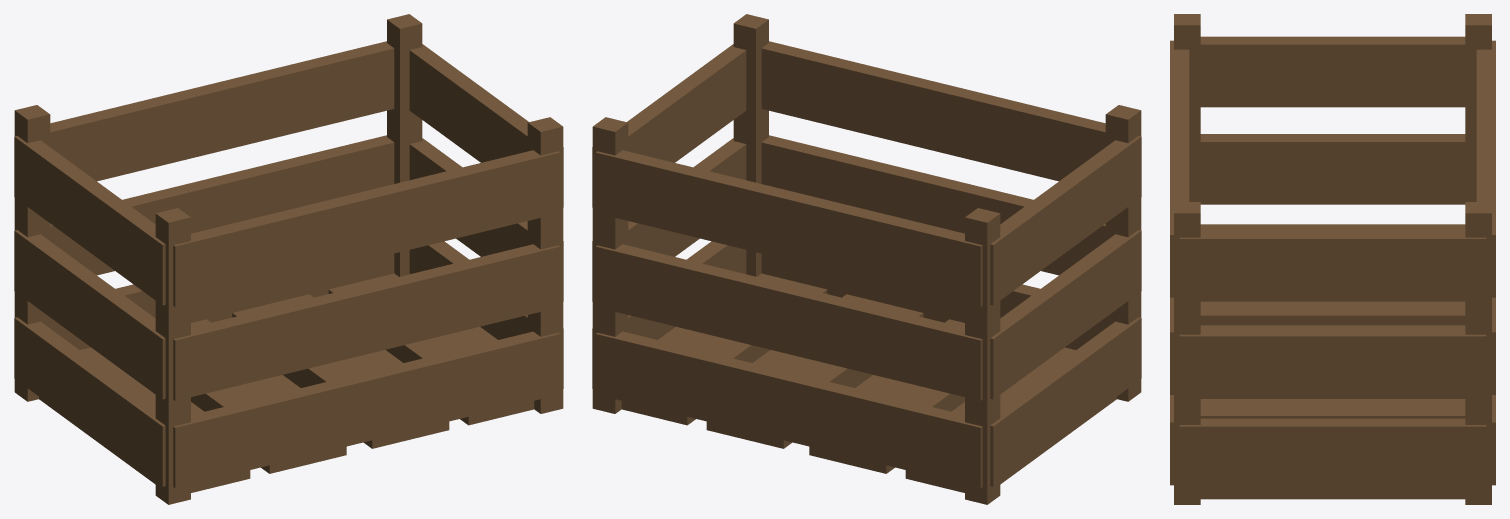
Rendered from wood_crate.glb.
3 renders of one model, left to right at view 1: azimuth 30°, elevation 25°; view 2: azimuth 150°, elevation 25°; view 3: azimuth 270°, elevation 25°, orthographic. The views are drawn at different scales.
Parts seen in each view (by area): view 1: wood_crate__VVK_weathered_wood; view 2: wood_crate__VVK_weathered_wood; view 3: wood_crate__VVK_weathered_wood.
Part boxes in pixels (left/top/right/bottom): wood_crate__VVK_weathered_wood: left=14, top=14, right=563, bottom=504; wood_crate__VVK_weathered_wood: left=592, top=14, right=1141, bottom=504; wood_crate__VVK_weathered_wood: left=1170, top=14, right=1495, bottom=504.
Size of the model in its own units: 0.625 by 0.42 by 0.425.
